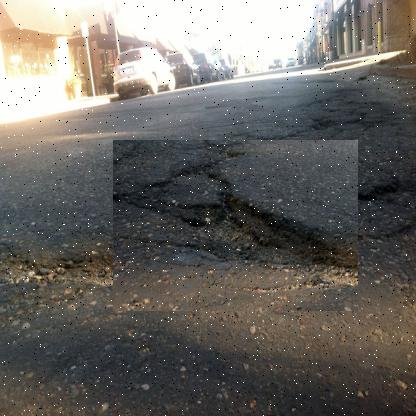damage: (112, 140, 358, 312)
